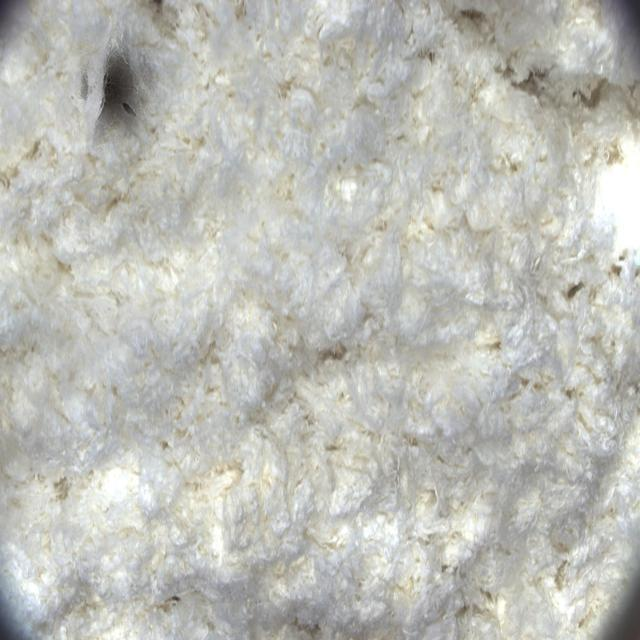dust: (57, 5, 190, 168)
